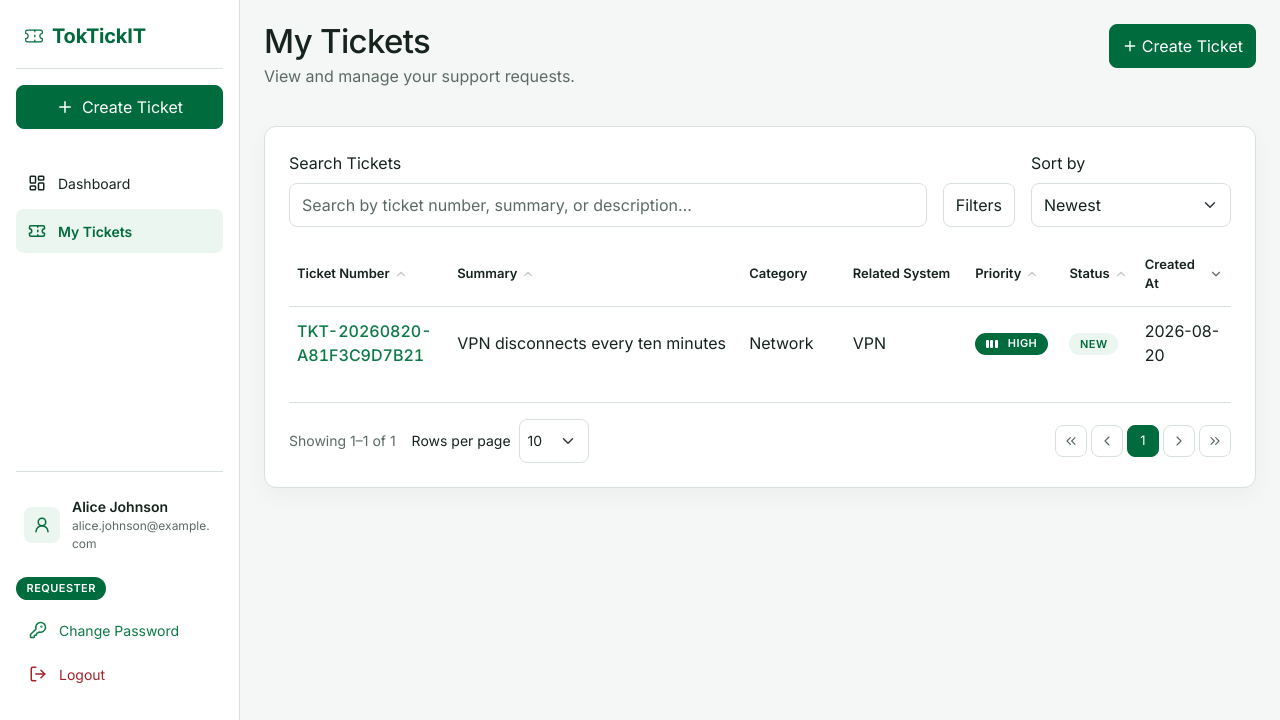
Test case: UI-18 My Tickets search debounce and query mapping › preserves an applied filter while a pending search commits
The width and height of the screenshot is (1280, 720).
Type "vpn" into the search field labelled "Search Tickets". click: (608, 205)
box: [289,183,927,227]
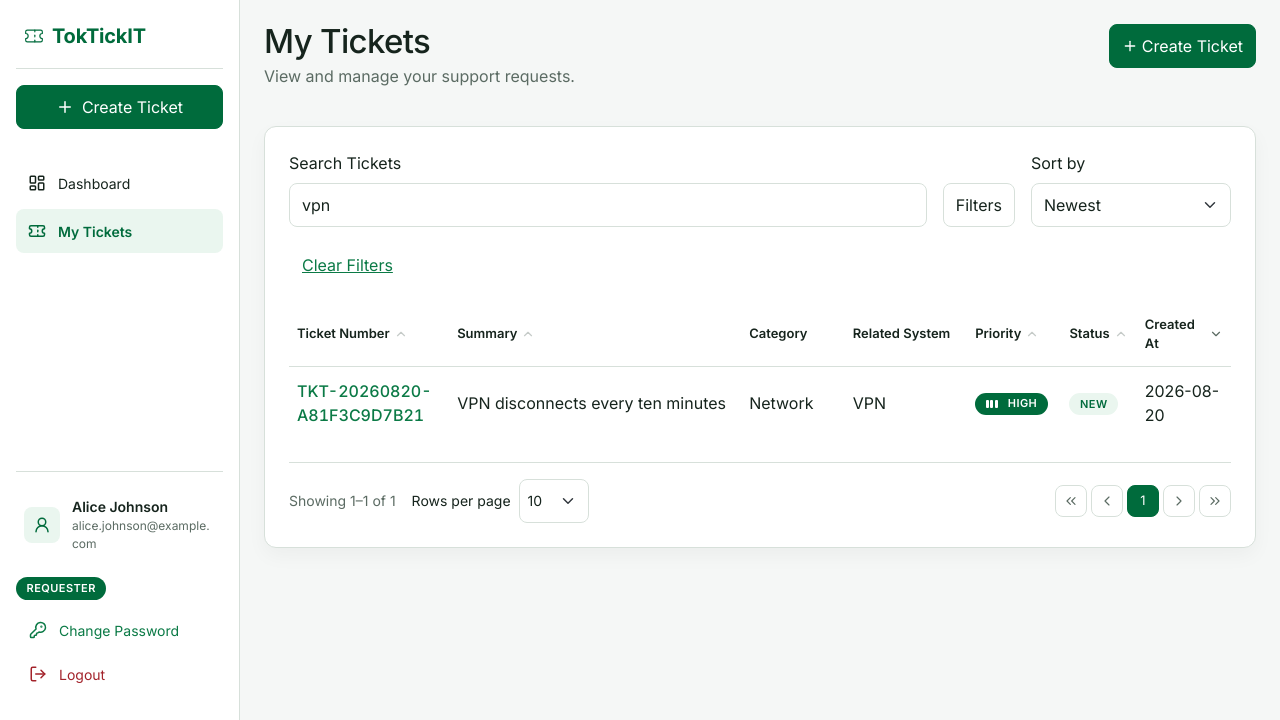
Click the button "Filters". click: (979, 205)
box: [943,183,1015,227]
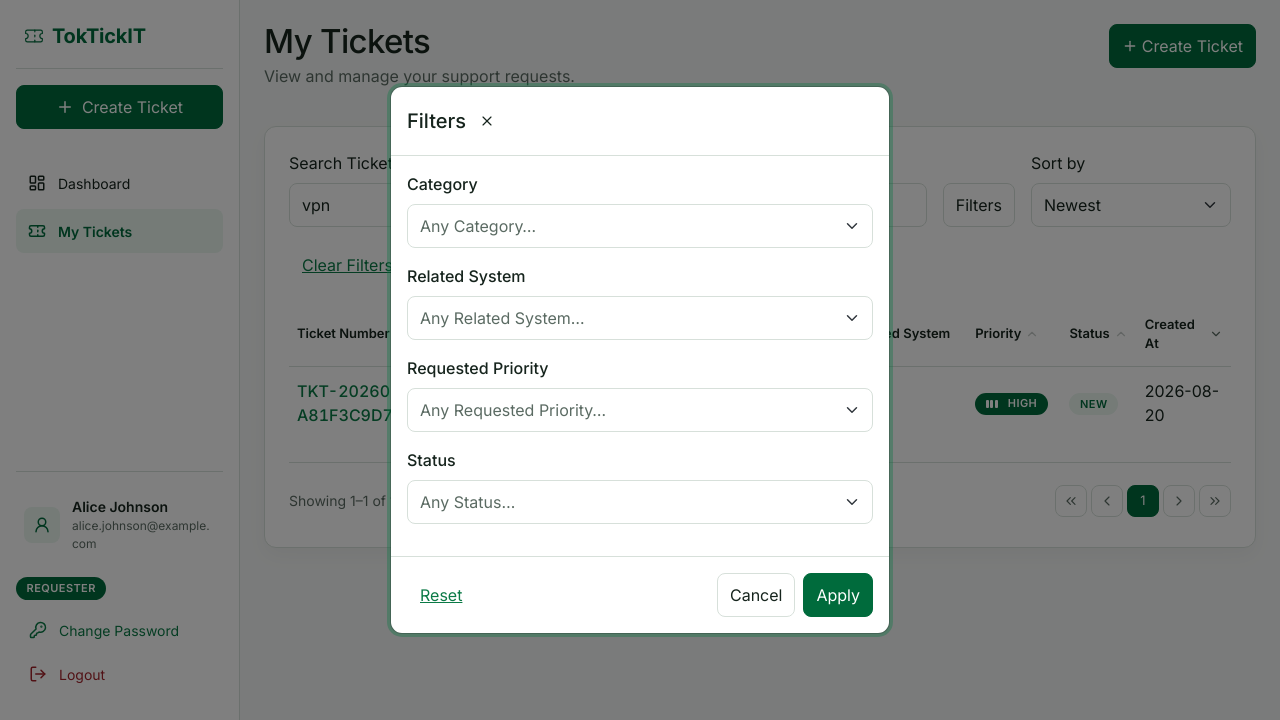
Click the button "Any Category…". click: (478, 226)
box: [407,204,873,248]
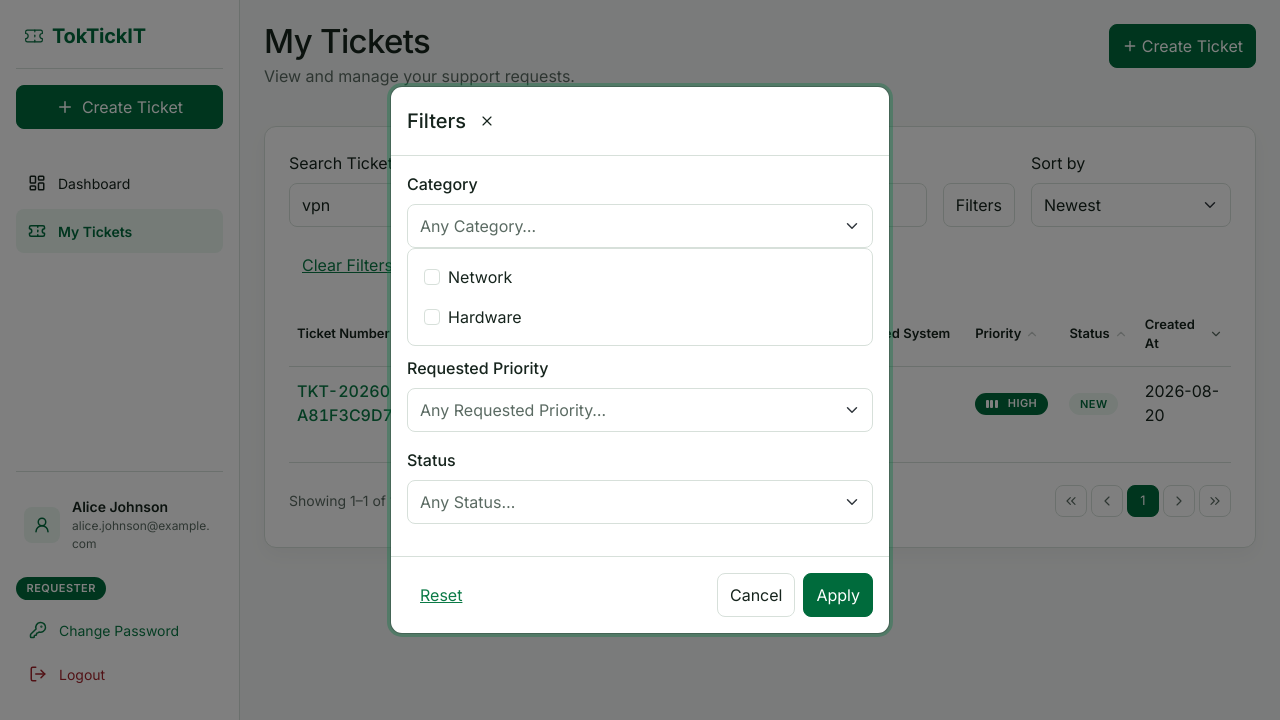
Click the checkbox labelled "Network". click: (432, 277)
box: [424,269,440,285]
Wait 399 ms
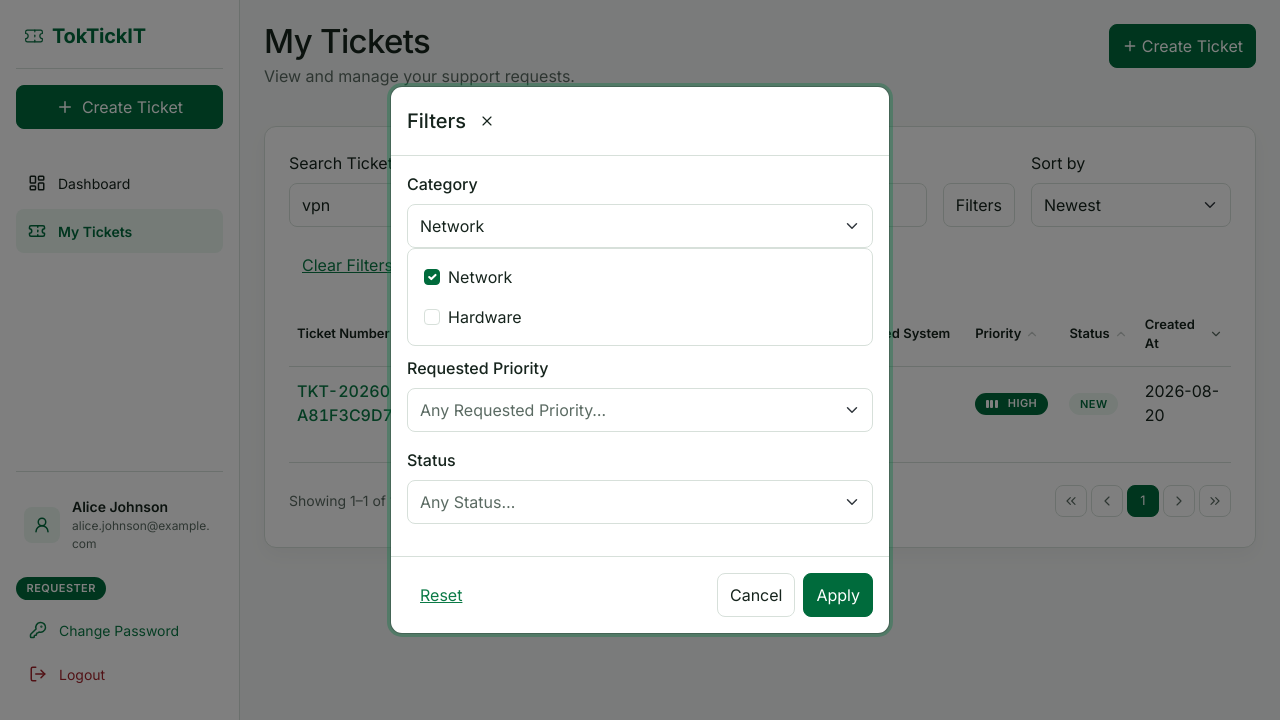
Click the button "Apply". click: (838, 595)
box: [803,573,873,617]
Wait 401 ms
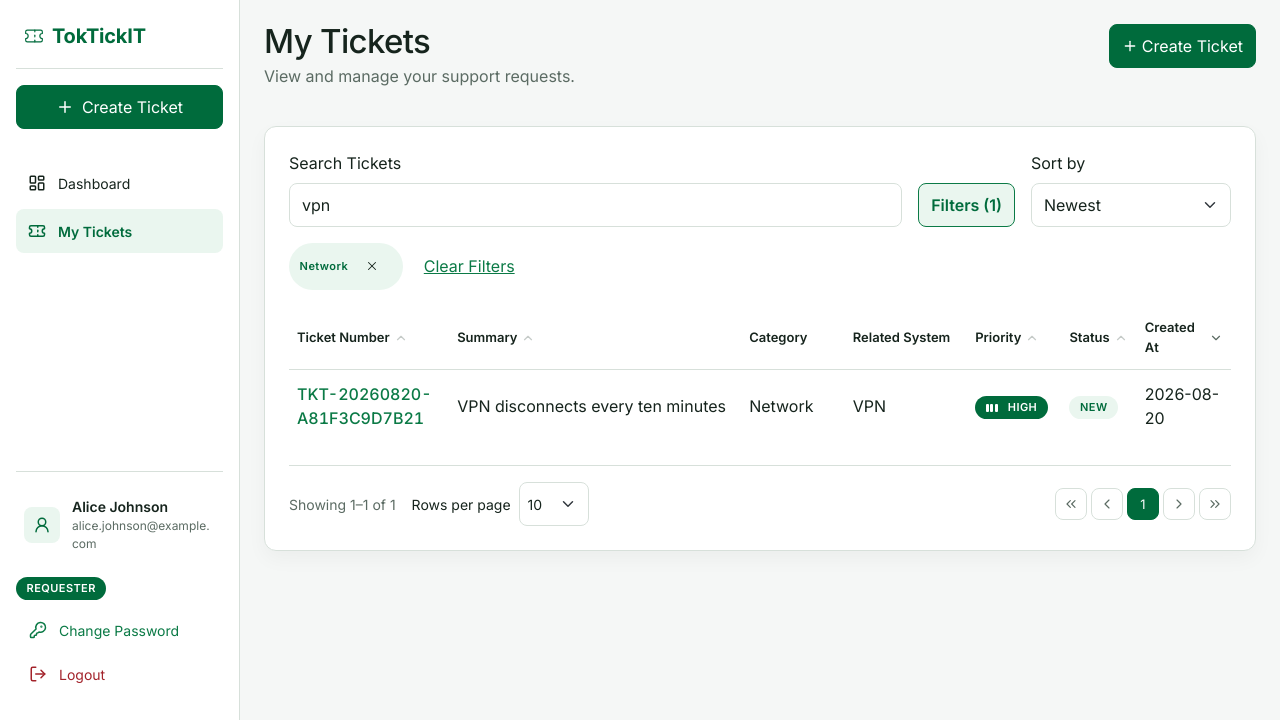
Result: the button "Filters (1)" is shown at [918,183,1015,227]
